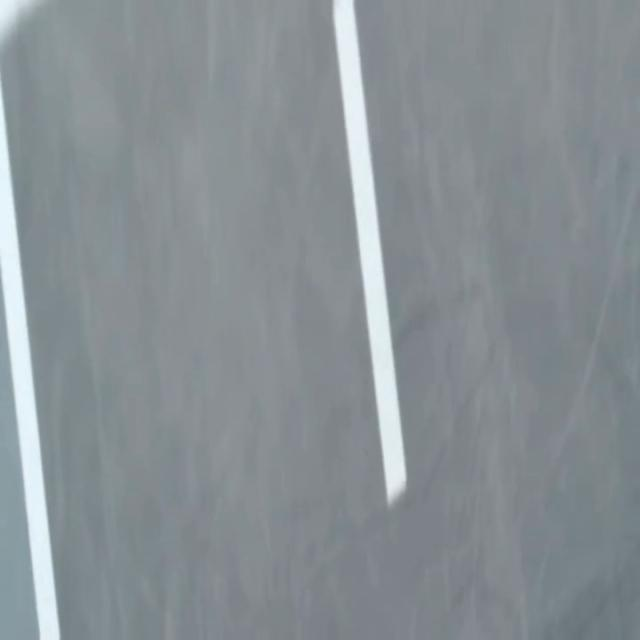center: (332, 0, 405, 506)
left: (0, 82, 60, 639)
